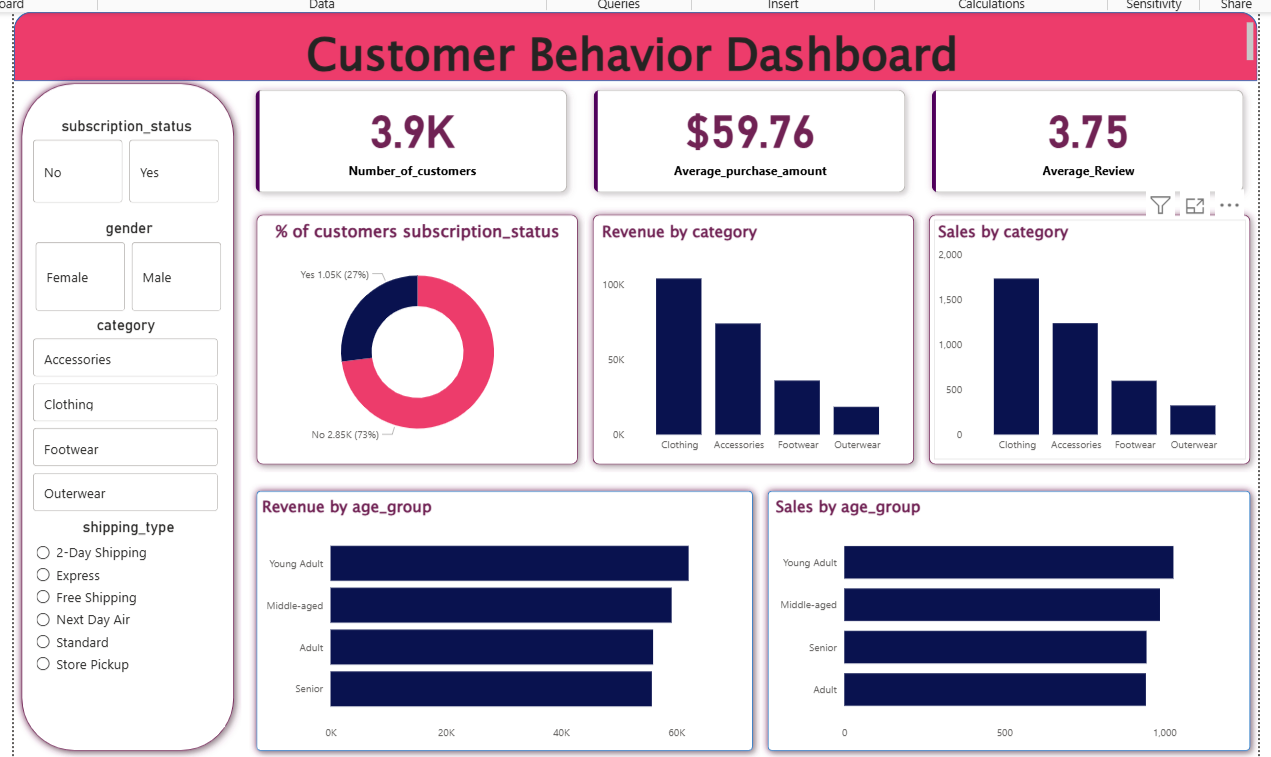

Layout of this report page (visuals, bound fields, positions):
{"tool":"powerbi","page":{"name":"Page 1","canvas":[1500,900],"ordinal":0},"visuals":[{"type":"cardVisual","fields":{"Data":["public cust.Number_of_customers","public cust.Average_purchase_amount","public cust.Average_Review"]},"box":[274.5,76.9,1226,158.3],"z":0},{"type":"shape","box":[0,0,1500.3,83],"z":1000},{"type":"textbox","box":[0,6.9,1500.3,70.6],"z":2000},{"type":"shape","box":[283.5,235.3,405.7,319.7],"z":3000},{"type":"donutChart","title":"% of customers  subscription_status","fields":{"Category":["public cust.subscription_status"],"Y":["CountNonNull(public cust.customer_id)"]},"box":[295.6,250.3,383,289.5],"z":4000},{"type":"shape","box":[1094.8,235.3,405.7,319.7],"z":5000},{"type":"shape","box":[689.2,235.3,405.7,319.7],"z":6000},{"type":"clusteredColumnChart","title":"Revenue by category","fields":{"Category":["public cust.category"],"Y":["Sum(public cust.purchase_amount)"]},"box":[704.3,250.3,375.5,289.5],"z":7000},{"type":"clusteredColumnChart","title":"Sales by category","fields":{"Category":["public cust.category"],"Y":["CountNonNull(public cust.customer_id)"]},"box":[1109.9,250.3,375.5,289.5],"z":8000},{"type":"shape","box":[0,76.9,274.5,823.4],"z":9000},{"type":"advancedSlicerVisual","fields":{"Values":["public cust.subscription_status"]},"box":[18.1,126.7,235.3,108.6],"z":10000},{"type":"listSlicer","fields":{"Values":["public cust.shipping_type"]},"box":[21.1,610.8,233.7,251.8],"z":11000},{"type":"advancedSlicerVisual","fields":{"Values":["public cust.gender"]},"box":[21.1,250.3,235.3,116.1],"z":12000},{"type":"advancedSlicerVisual","fields":{"Values":["public cust.category"]},"box":[18.1,366.5,233.7,244.3],"z":13000},{"type":"shape","box":[900.3,568.5,600.2,331.8],"z":14000},{"type":"shape","box":[283.5,568.5,616.8,331.8],"z":15000},{"type":"clusteredBarChart","fields":{"Y":["Sum(public cust.purchase_amount)"],"Category":["public cust.age_group"]},"box":[294.1,582.1,589.6,306.1],"z":16000},{"type":"clusteredBarChart","fields":{"Category":["public cust.age_group"],"Y":["CountNonNull(public cust.customer_id)"]},"box":[913.9,582.1,571.6,306.1],"z":17000}]}

Visuals, with their boxes in screenshot pixels (x1, y1, x2, y2):
cardVisual - public cust.Number_of_customers x public cust.Average_purchase_amount: rect(235, 74, 1253, 205)
shape: rect(7, 10, 1253, 79)
textbox: rect(7, 16, 1253, 74)
shape: rect(242, 205, 579, 471)
"% of customers  subscription_status" donutChart: rect(252, 218, 570, 458)
shape: rect(916, 205, 1253, 471)
shape: rect(579, 205, 916, 471)
"Revenue by category" clusteredColumnChart: rect(592, 218, 903, 458)
"Sales by category" clusteredColumnChart: rect(928, 218, 1240, 458)
shape: rect(7, 74, 235, 756)
advancedSlicerVisual - public cust.subscription_status: rect(22, 115, 217, 205)
listSlicer - public cust.shipping_type: rect(24, 517, 218, 726)
advancedSlicerVisual - public cust.gender: rect(24, 218, 220, 314)
advancedSlicerVisual - public cust.category: rect(22, 314, 216, 517)
shape: rect(754, 482, 1253, 756)
shape: rect(242, 482, 754, 756)
clusteredBarChart - Sum(public cust.purchase_amount) x public cust.age_group: rect(251, 493, 741, 748)
clusteredBarChart - public cust.age_group x CountNonNull(public cust.customer_id): rect(766, 493, 1240, 748)
